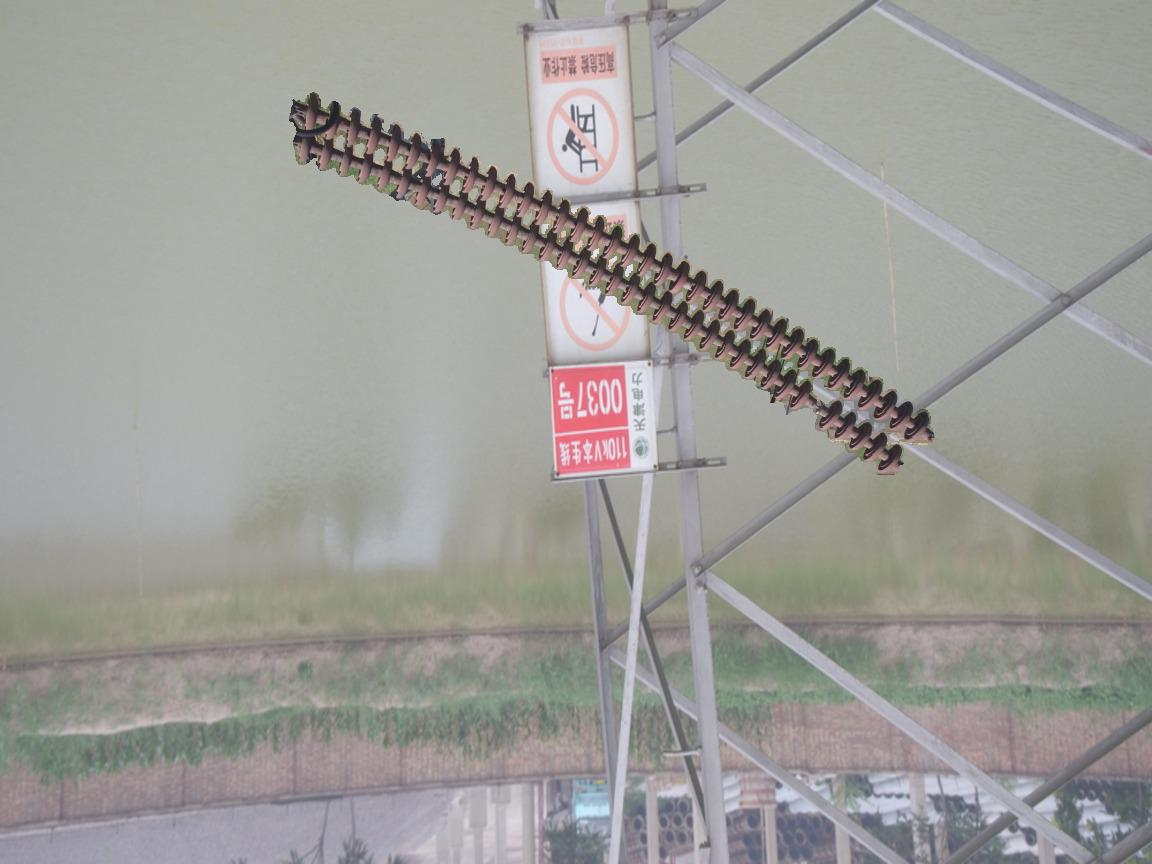insulator: (288, 88, 940, 480)
insulator_stringdrop: (786, 378, 847, 434)
